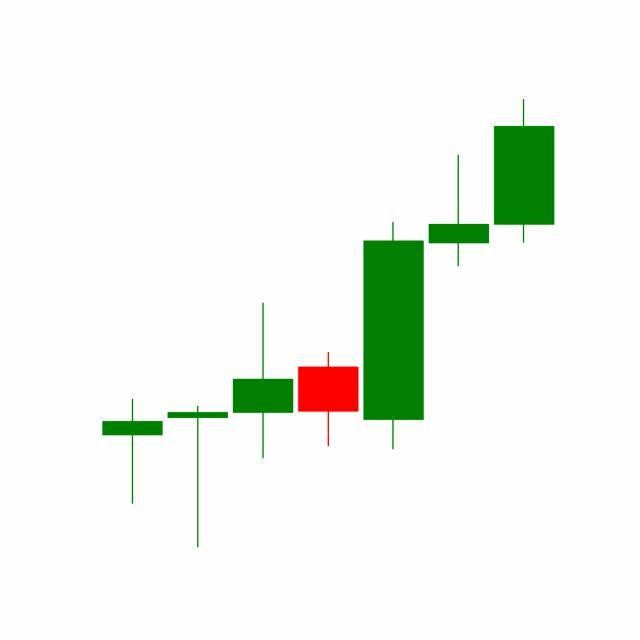Three Outside Up-Down: (295, 152, 492, 454)
